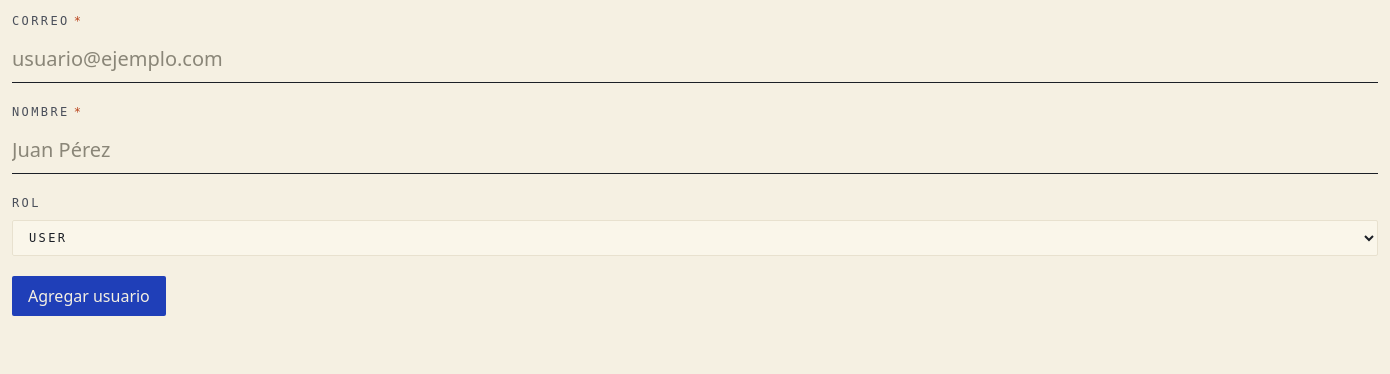
Test: UserForm › surfaces backend errors as a form-level alert
The image size is (1390, 374).
In the field labelled "Correo*": (695, 60) [12,36,1378,83], type "taken@example.com"
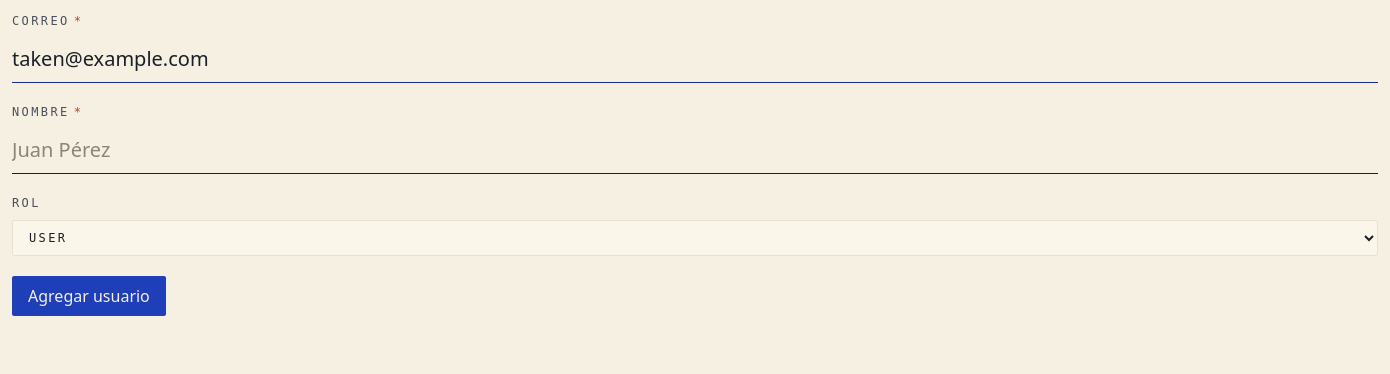
In the field labelled "Nombre*": (695, 150) [12,127,1378,174], type "Jane"
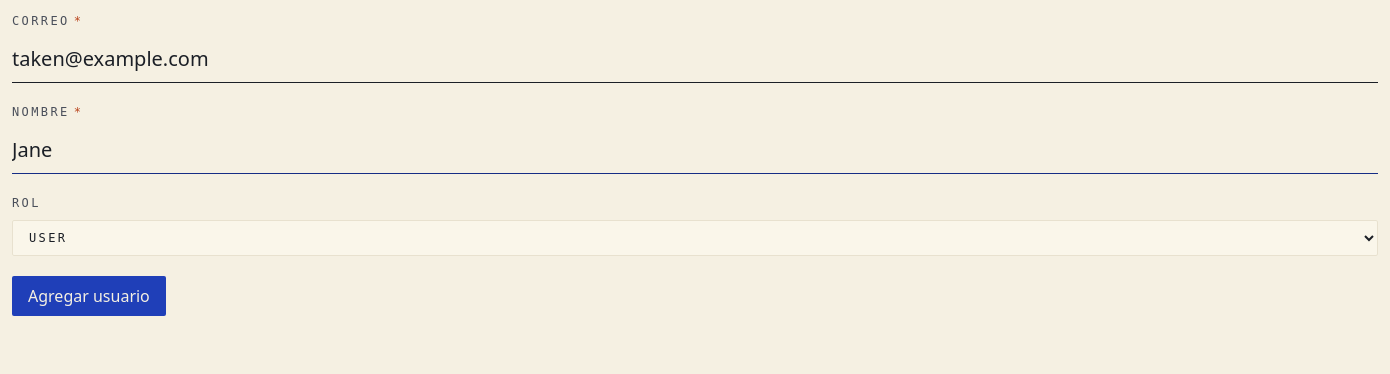
Click the button "Agregar usuario": (89, 296) [12,276,166,316]
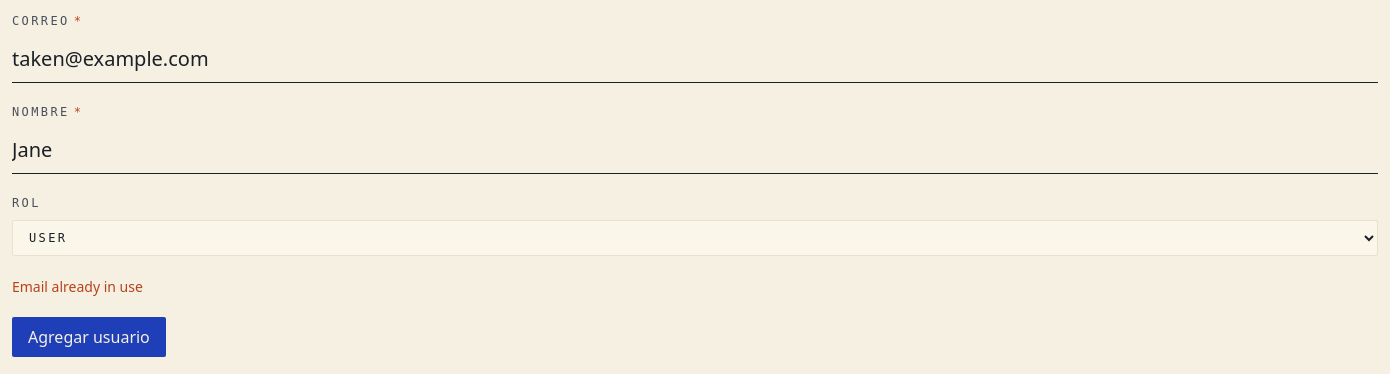
Now the text "Email already in use" is shown, box [12,277,143,296]
